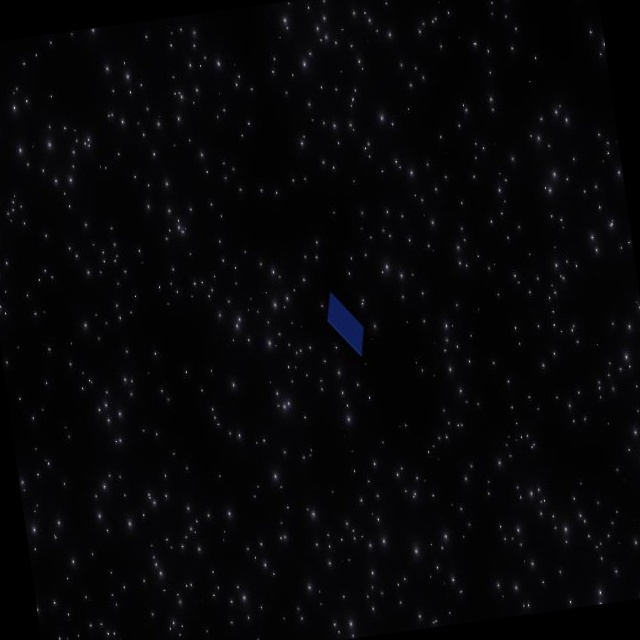large_debris: (319, 285, 370, 362)
